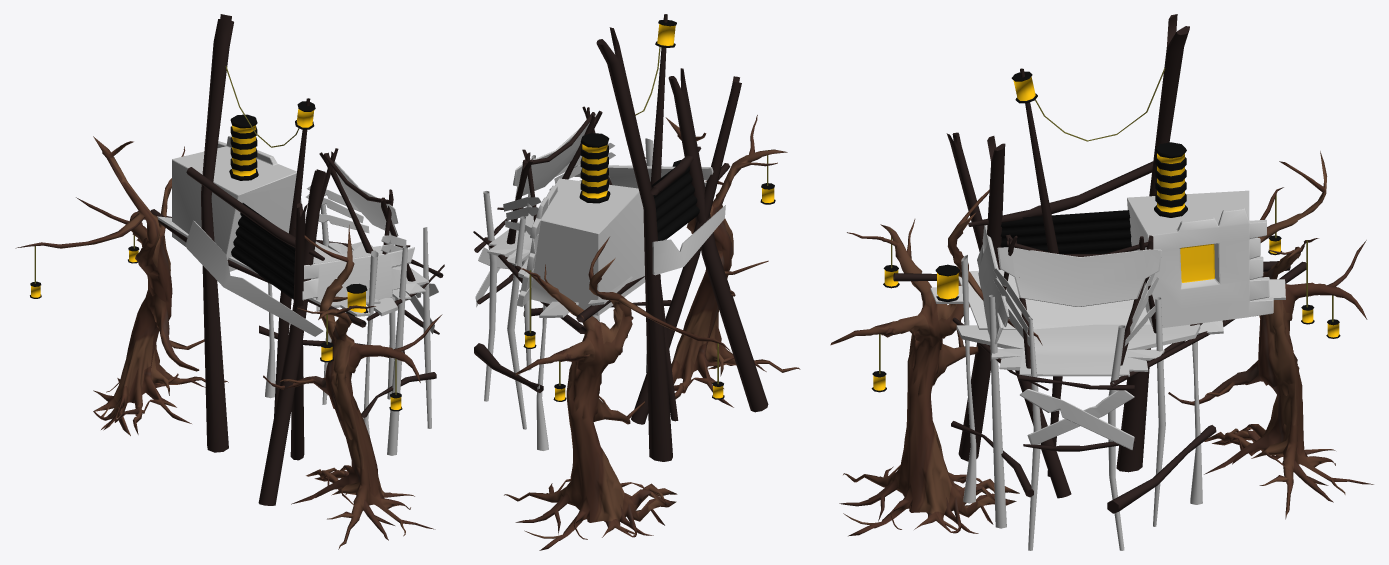
File: PILOTI_MAISON_NEW.FBX
3 renders of one model, left to right at view 1: azimuth 30°, elevation 25°; view 2: azimuth 150°, elevation 25°; view 3: azimuth 270°, elevation 25°, orthographic. The views are drawn at different scales.
Visible parts, largest first — view 1: PILOTI_MAISON; view 2: PILOTI_MAISON; view 3: PILOTI_MAISON.
Part boxes in pixels (box(x1,y1,x2,y2)): PILOTI_MAISON: box(15, 14, 444, 549); PILOTI_MAISON: box(473, 14, 800, 550); PILOTI_MAISON: box(830, 14, 1373, 550).
Bounding box in the file's own units: 1496 × 1889 × 1908.
